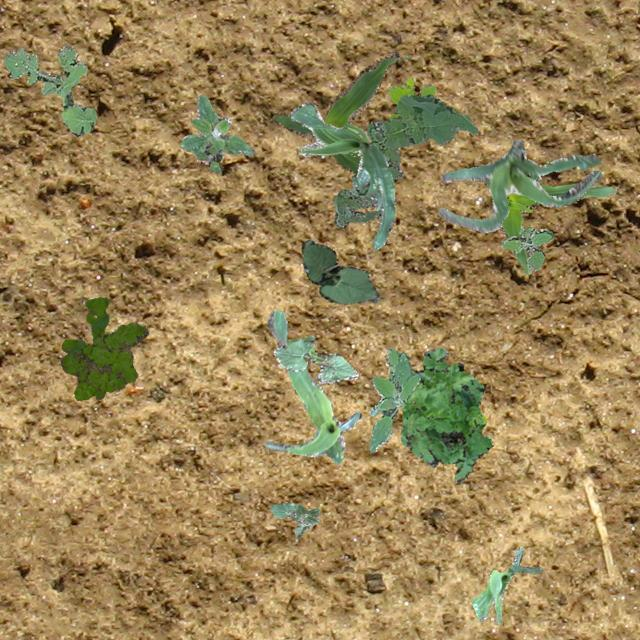crop: (272, 49, 408, 172), (290, 102, 394, 250), (438, 138, 600, 232), (264, 308, 360, 462), (480, 180, 616, 274), (471, 546, 542, 624), (300, 238, 380, 302), (272, 334, 358, 382), (268, 502, 318, 536)
weed: (332, 94, 477, 226), (400, 346, 492, 482), (59, 296, 148, 400), (2, 44, 96, 136), (178, 94, 254, 172), (368, 346, 418, 451), (500, 227, 552, 270), (386, 75, 434, 118)
